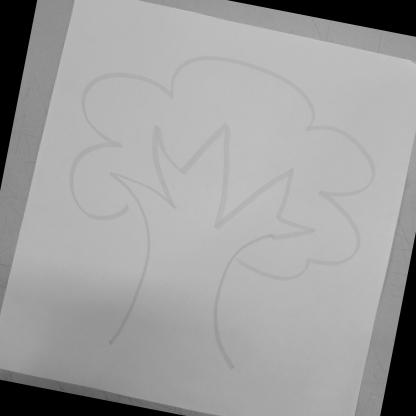branch_sharp: (95, 100, 335, 255)
crown_cloud: (48, 26, 397, 296)
trunk_straight: (119, 240, 236, 341)
